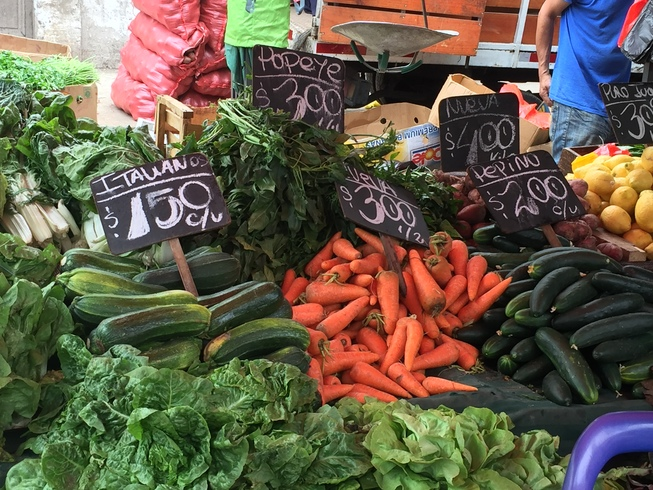precio: (84, 151, 249, 249), (457, 137, 593, 235), (330, 151, 434, 250), (248, 38, 351, 137), (432, 91, 545, 181), (592, 72, 653, 156)
